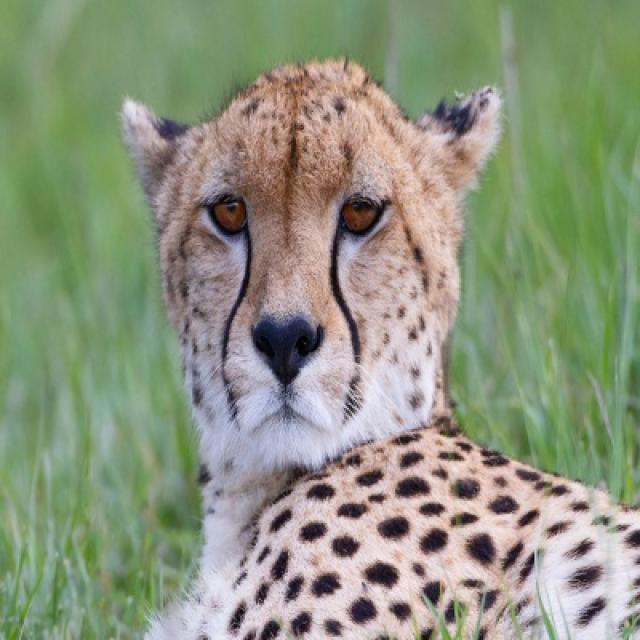Cheetah: (123, 59, 638, 638)
